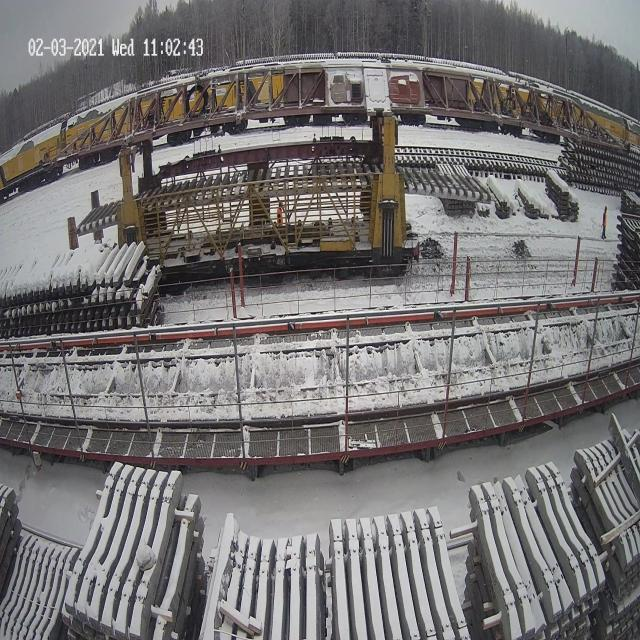Person: (271, 189, 290, 224), (602, 205, 608, 239)
